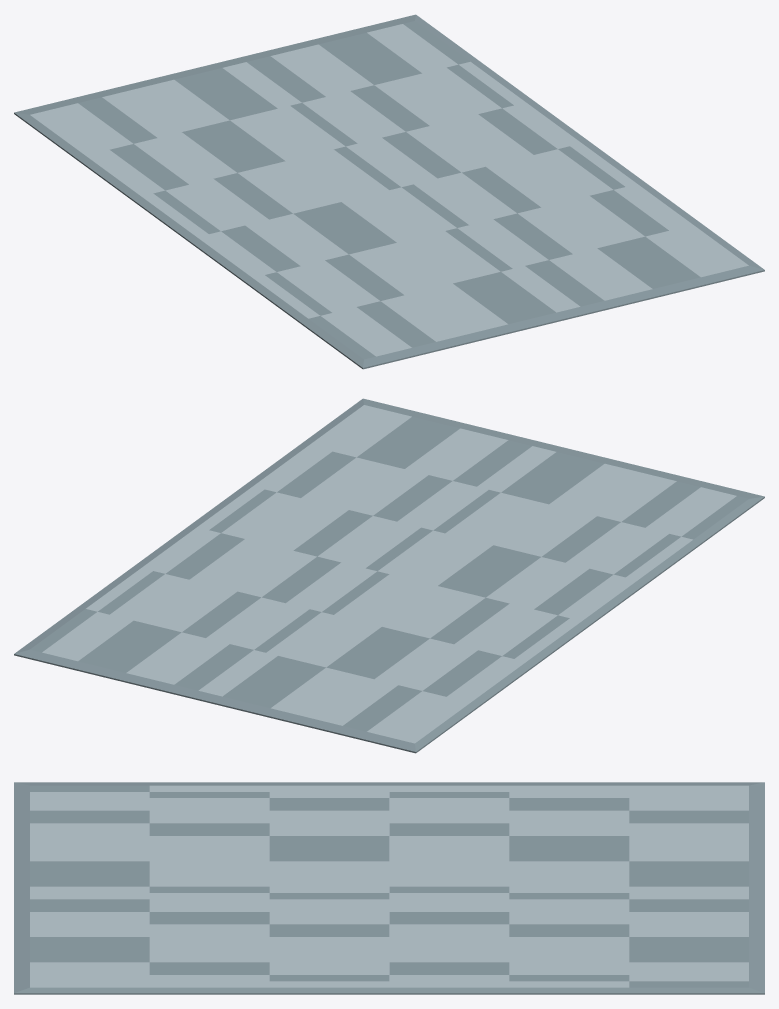
Rendered from ModernRug.glb.
The picture shows the model from 3 angles, top to bottom: view 1: azimuth 30°, elevation 25°; view 2: azimuth 150°, elevation 25°; view 3: azimuth 270°, elevation 25°; orthographic projection. The views are drawn at different scales.
Visible parts, largest first — view 1: Modern_rug_Plane.004; view 2: Modern_rug_Plane.004; view 3: Modern_rug_Plane.004.
Boxes of the visible parts, x1=… form: Modern_rug_Plane.004: x1=14, y1=14, x2=764, y2=369; Modern_rug_Plane.004: x1=14, y1=398, x2=764, y2=753; Modern_rug_Plane.004: x1=14, y1=782, x2=764, y2=994.
Size of the model in its own units: 6.63 by 0.0392 by 9.97.
